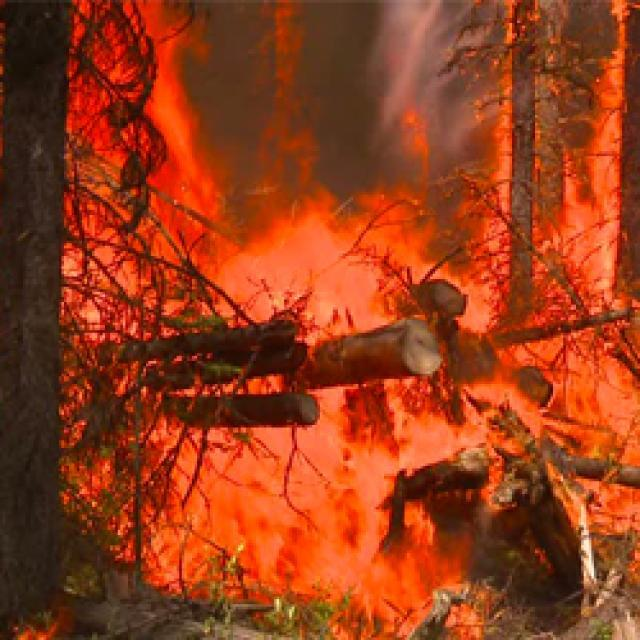Fire: (229, 196, 512, 640), (64, 0, 230, 600), (499, 0, 640, 592), (250, 0, 335, 196), (369, 172, 498, 194), (12, 618, 68, 640)
Smoke: (364, 0, 501, 170)
